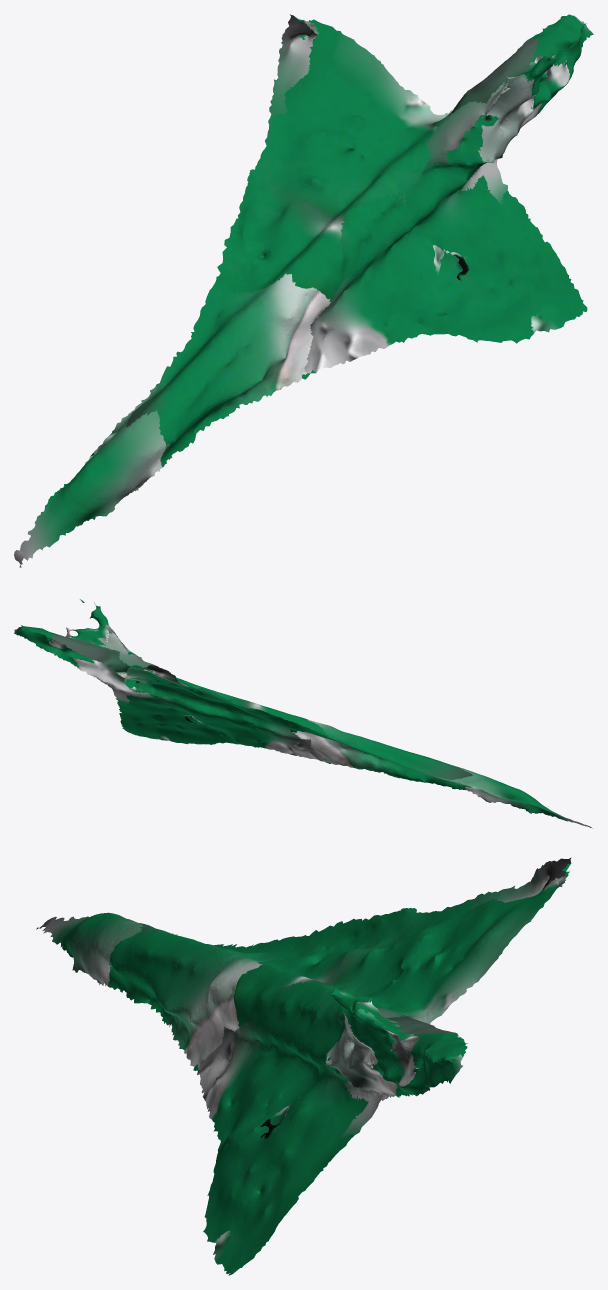
The model's file is BritishAirways_Airplane.obj.
3 views of the same model, one above another, from view 1: azimuth 30°, elevation 25°; view 2: azimuth 150°, elevation 25°; view 3: azimuth 270°, elevation 25° (orthographic). The views are drawn at different scales.
Size of the model in its own units: 7.41 by 2.77 by 3.6.
1 material, 1 textured.
